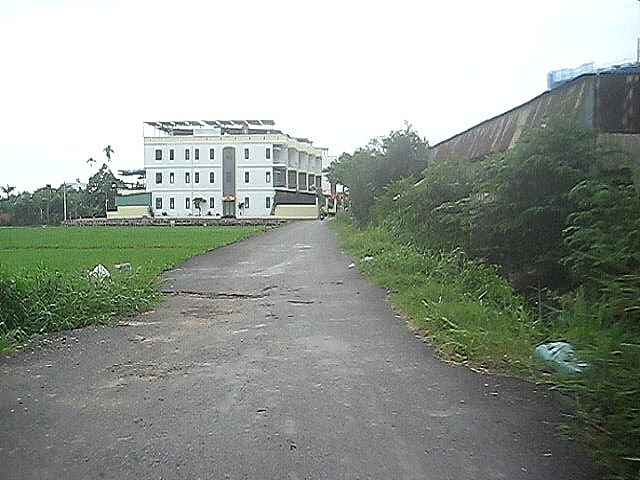hole: (155, 288, 268, 298), (189, 307, 234, 319), (321, 280, 345, 288), (291, 301, 315, 305)
